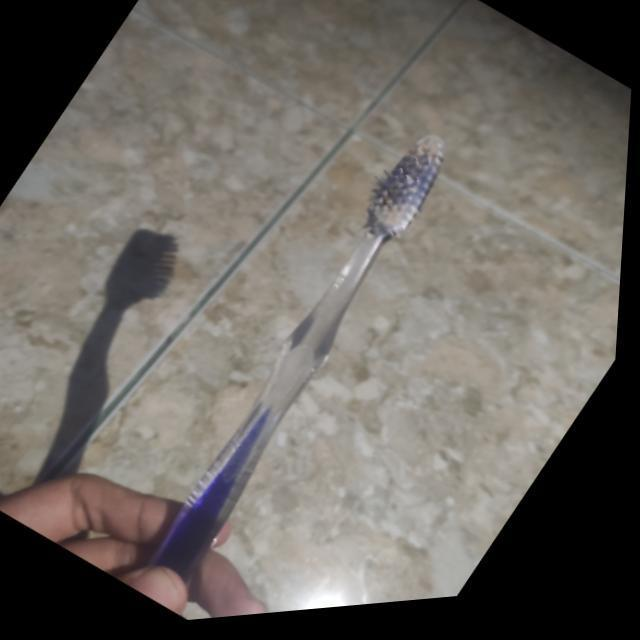toothbrush: (104, 115, 476, 617)
